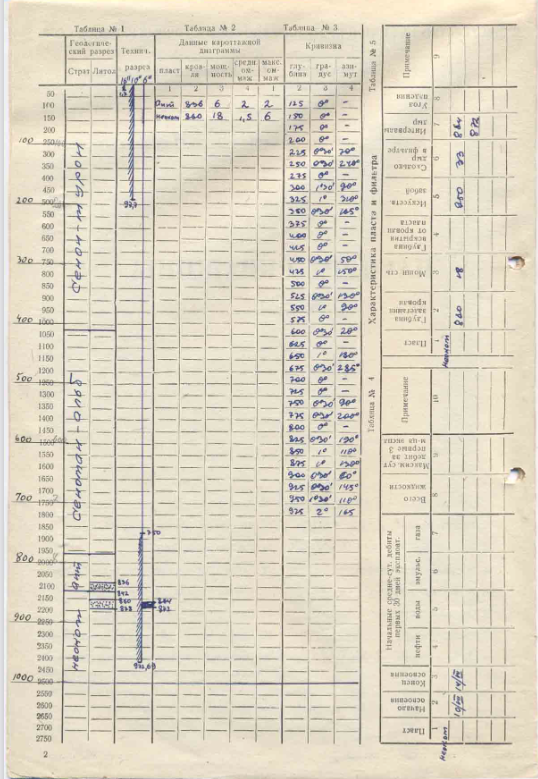Bordered: (283, 34, 367, 523)
